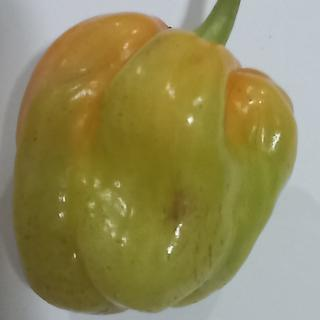Defect: (160, 182, 196, 234)
